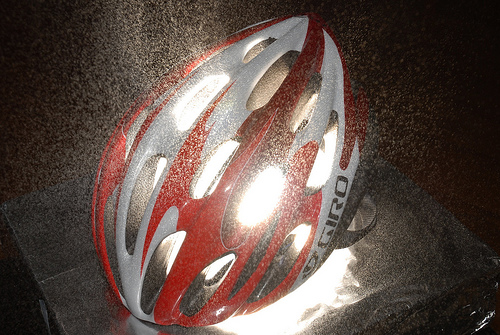helmet: (99, 57, 360, 301)
